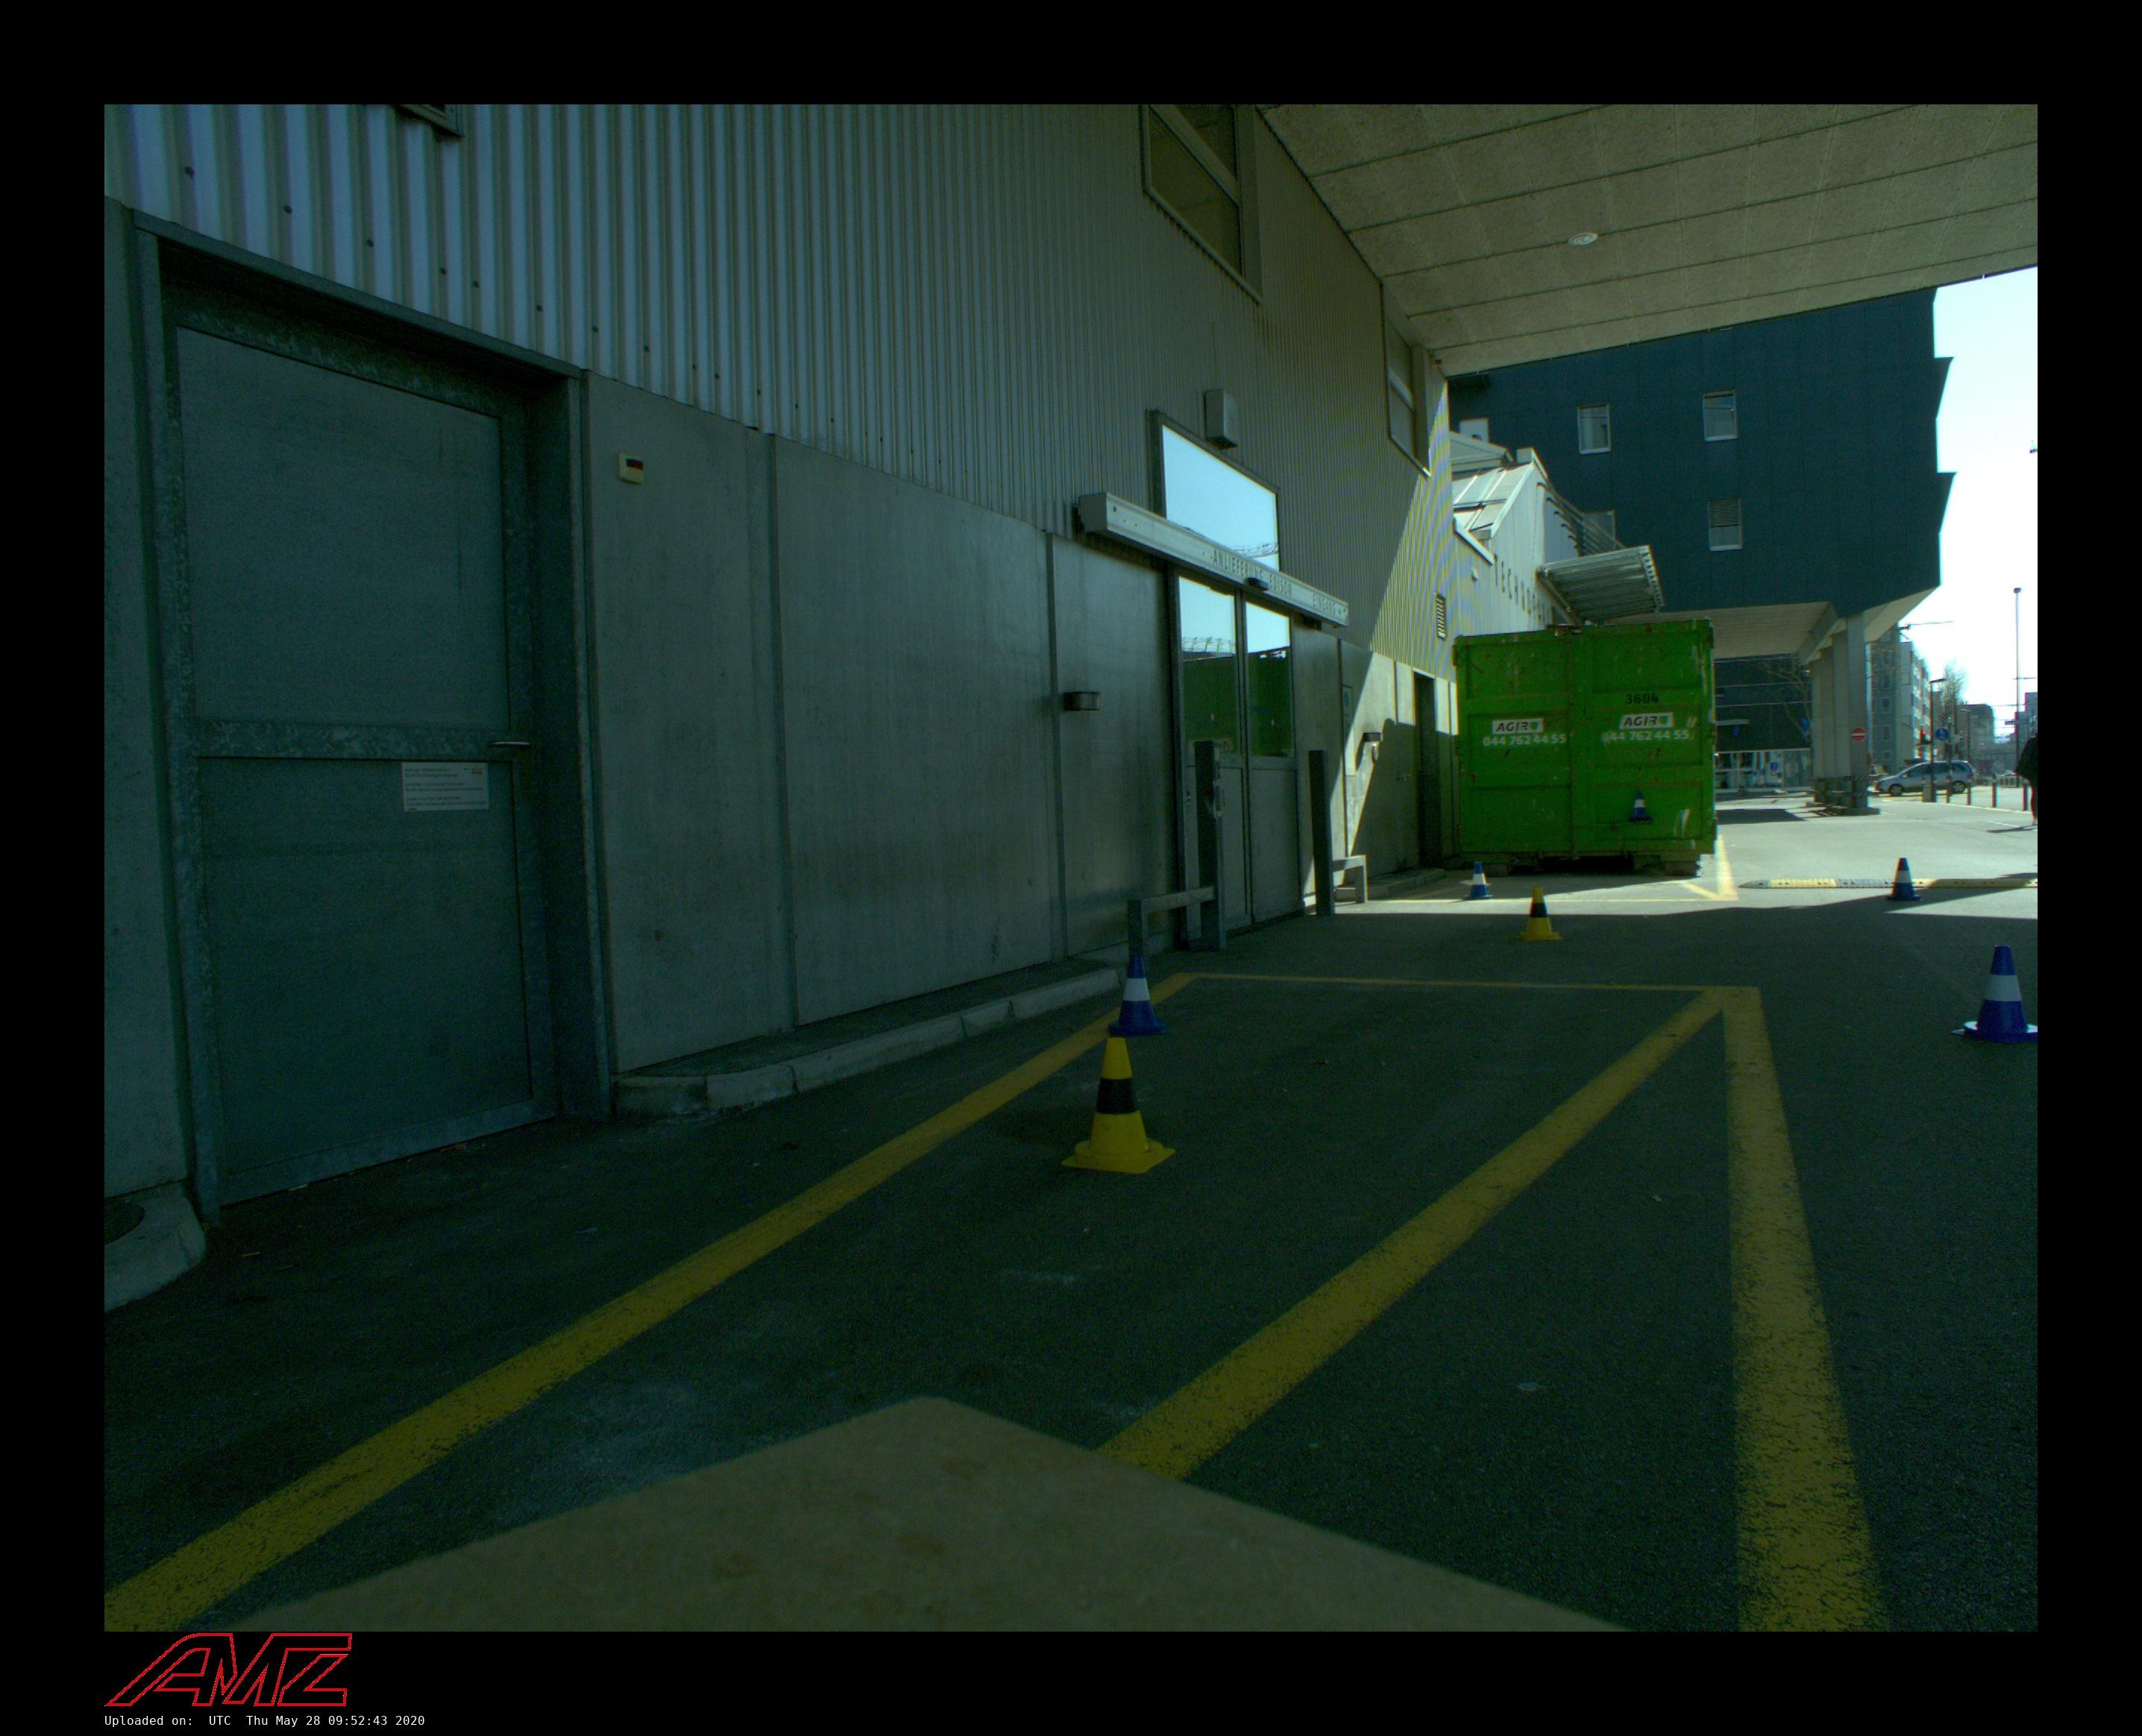blue_cone: (1949, 946, 2037, 1043), (1107, 955, 1169, 1038), (1887, 859, 1922, 902), (1465, 863, 1494, 900), (1628, 792, 1651, 820)
yellow_cone: (1061, 1038, 1176, 1174), (1515, 887, 1563, 941)
